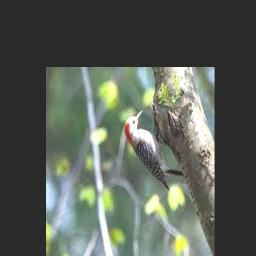Woodpecker: (125, 108, 184, 190)
